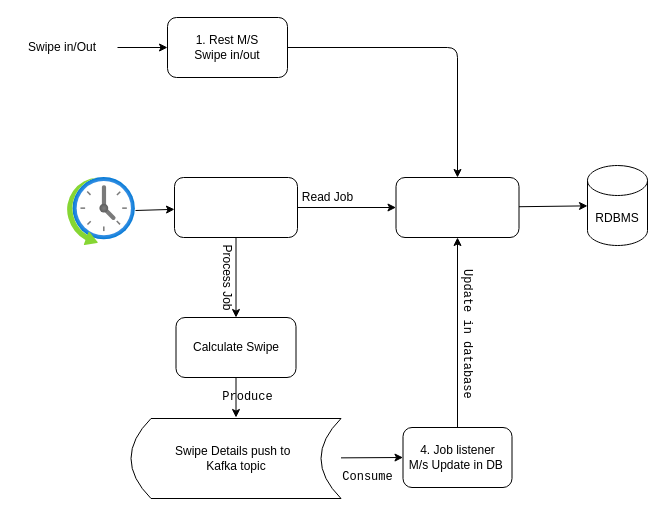
Image size: 665x516. Some labels were removed from this diagram. Here are the shapes that lost their labels. From the top down, the centre of each, then its label:
the point at 236,207: 3. EOD Scheduler execute M/S
the point at 457,207: 2. DAO MS
